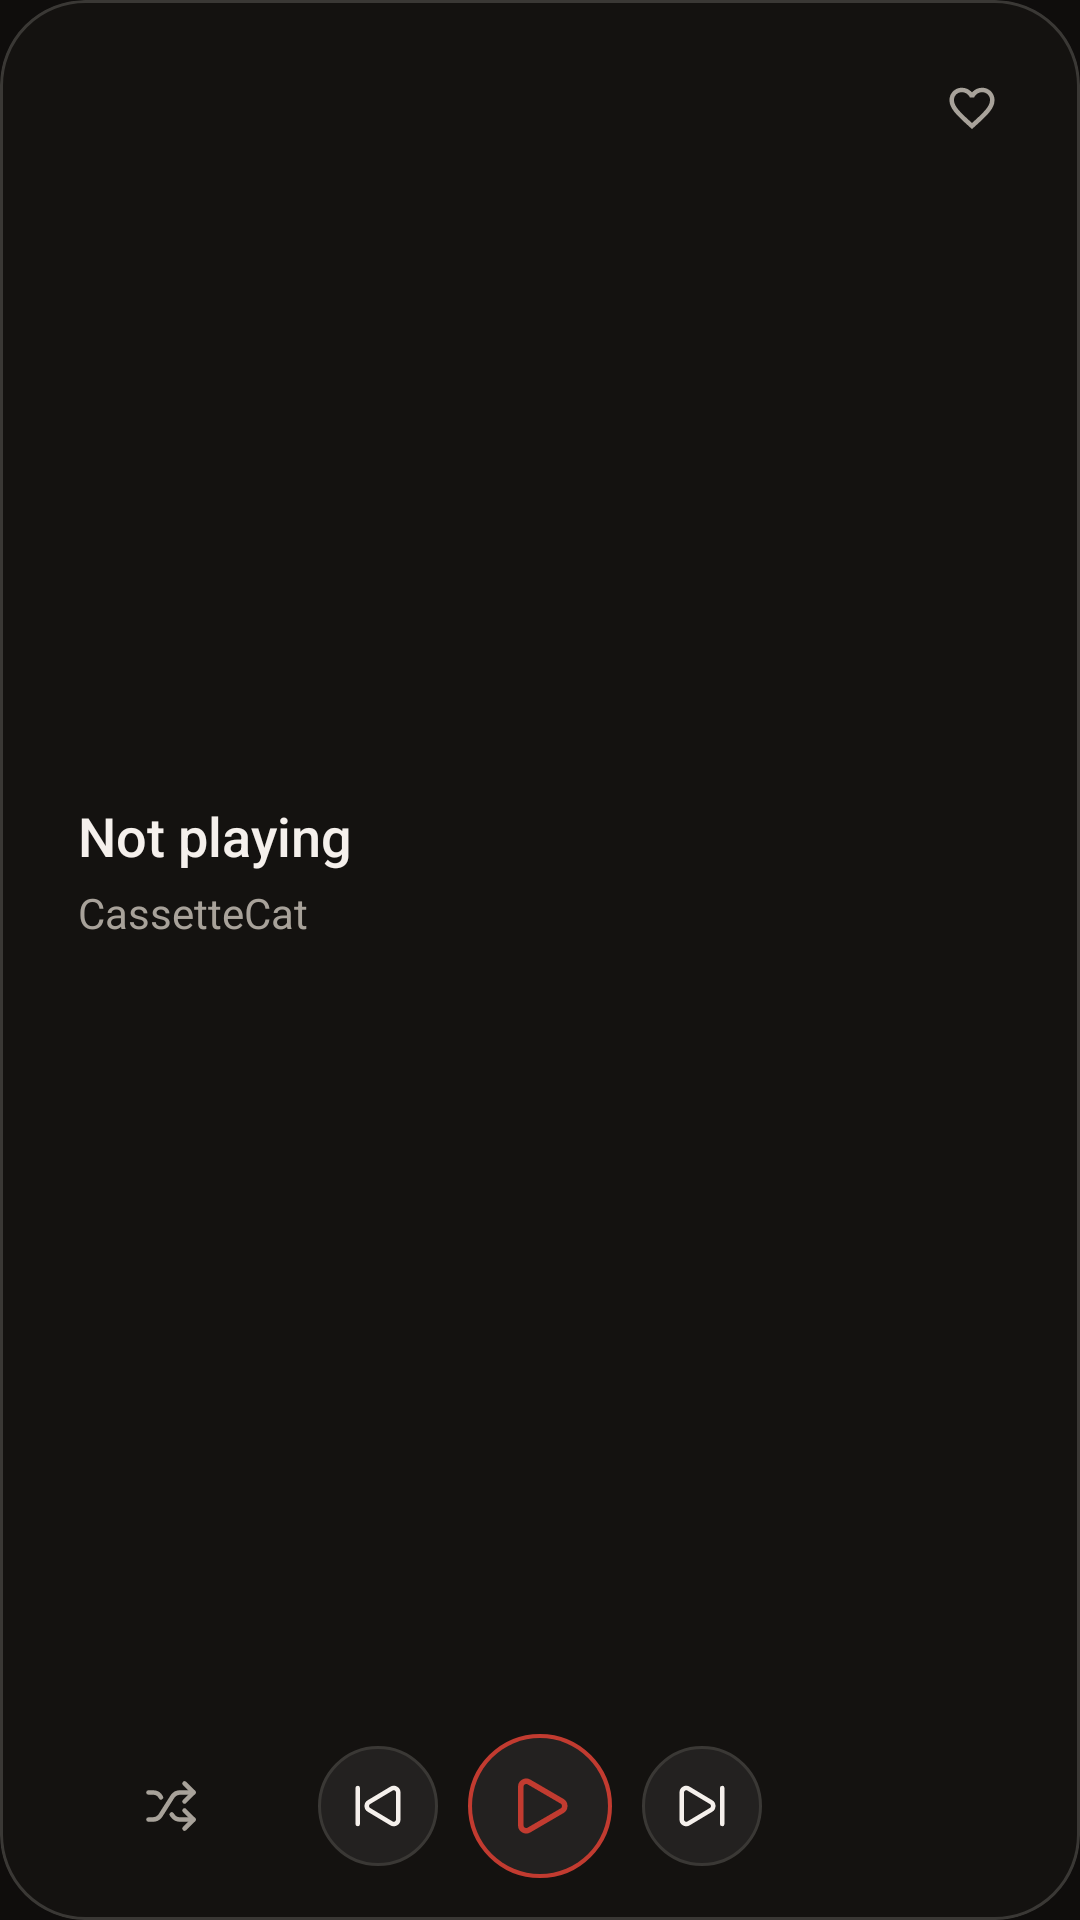

Named icons in this screenshot (1080 × 1920) and their bounding boxes, (x1, y1, x2, y2):
Favorite: (949, 87, 995, 129)
Next: (642, 1746, 762, 1866)
Play/Pause: (468, 1734, 612, 1878)
Previous: (318, 1746, 438, 1866)
Shuffle off: (146, 1781, 196, 1831)
